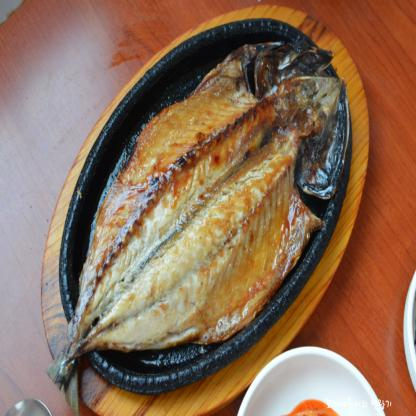Peixe: (38, 35, 369, 382)
